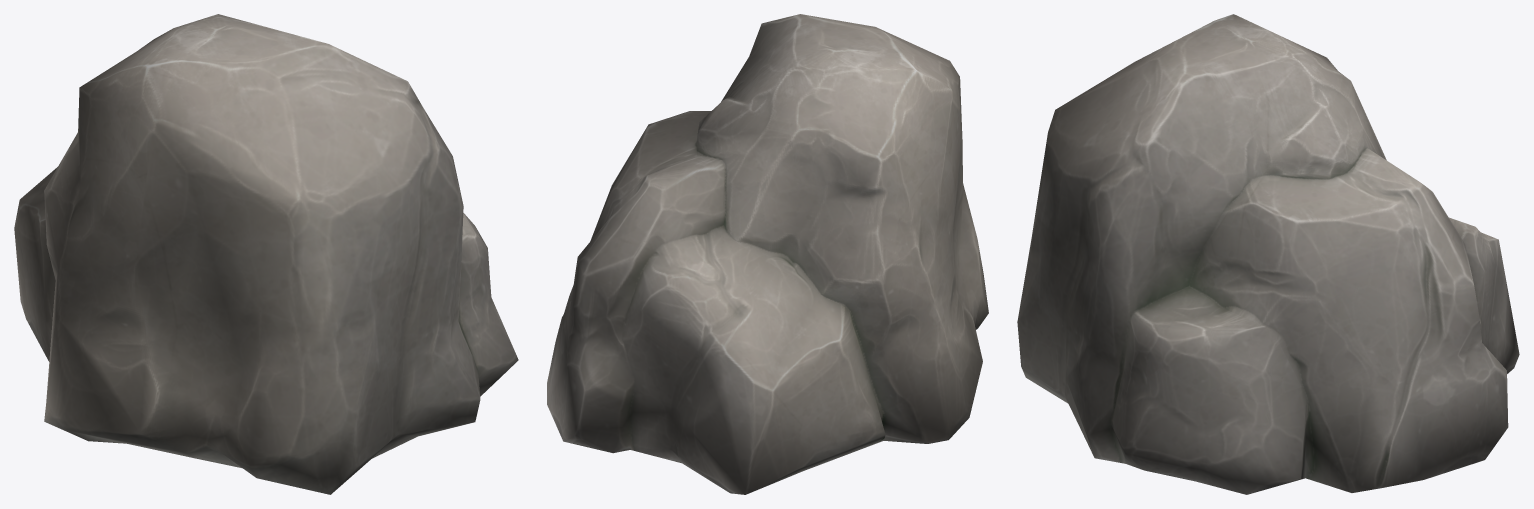
The model's file is legendsvr-rocks-303.glb.
3 renders of one model, left to right at view 1: azimuth 30°, elevation 25°; view 2: azimuth 150°, elevation 25°; view 3: azimuth 270°, elevation 25°, orthographic. The views are drawn at different scales.
Visible parts, largest first — view 1: RockA_LowPoly; view 2: RockA_LowPoly; view 3: RockA_LowPoly.
Part boxes in pixels (box(x1,y1,x2,y2)): RockA_LowPoly: box(14, 14, 518, 494); RockA_LowPoly: box(547, 14, 988, 494); RockA_LowPoly: box(1017, 14, 1519, 494).
Bounding box in the file's own units: 3.77 × 3.33 × 4.38.
1 material, 1 textured.
